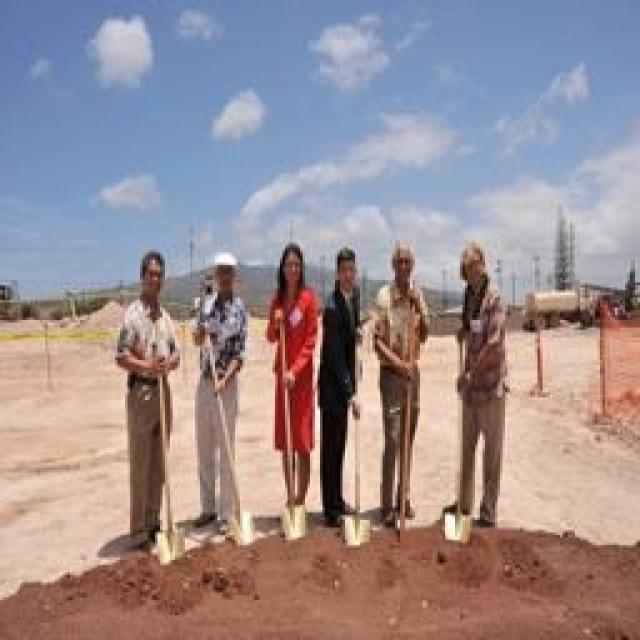Helmet: (164, 274, 272, 409), (298, 272, 382, 436), (432, 284, 528, 423), (97, 291, 185, 425), (367, 266, 427, 428), (262, 276, 317, 418), (189, 228, 255, 302), (375, 222, 430, 310), (115, 233, 177, 310), (315, 215, 363, 300), (442, 234, 498, 305), (260, 238, 318, 303)
